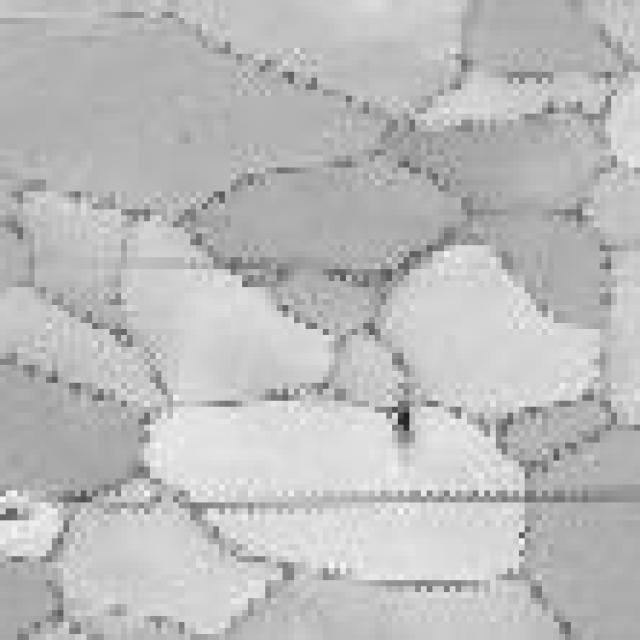good_void: (388, 393, 416, 440)
